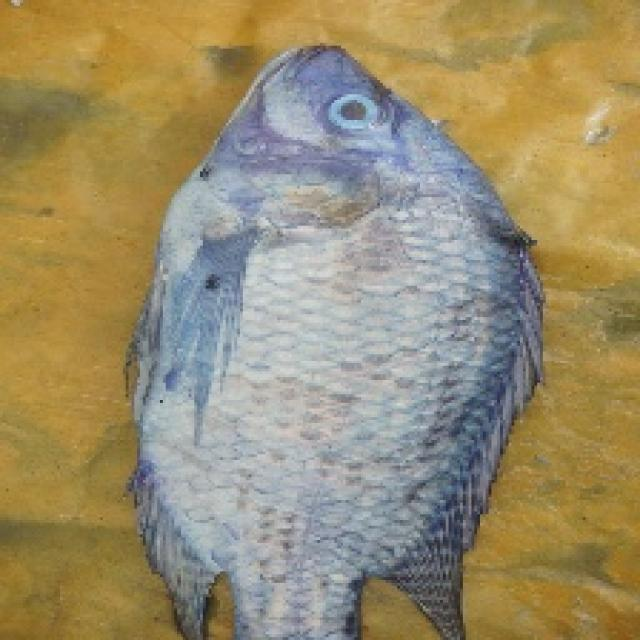Non-Fresh: (159, 153, 508, 607), (309, 74, 401, 150)
